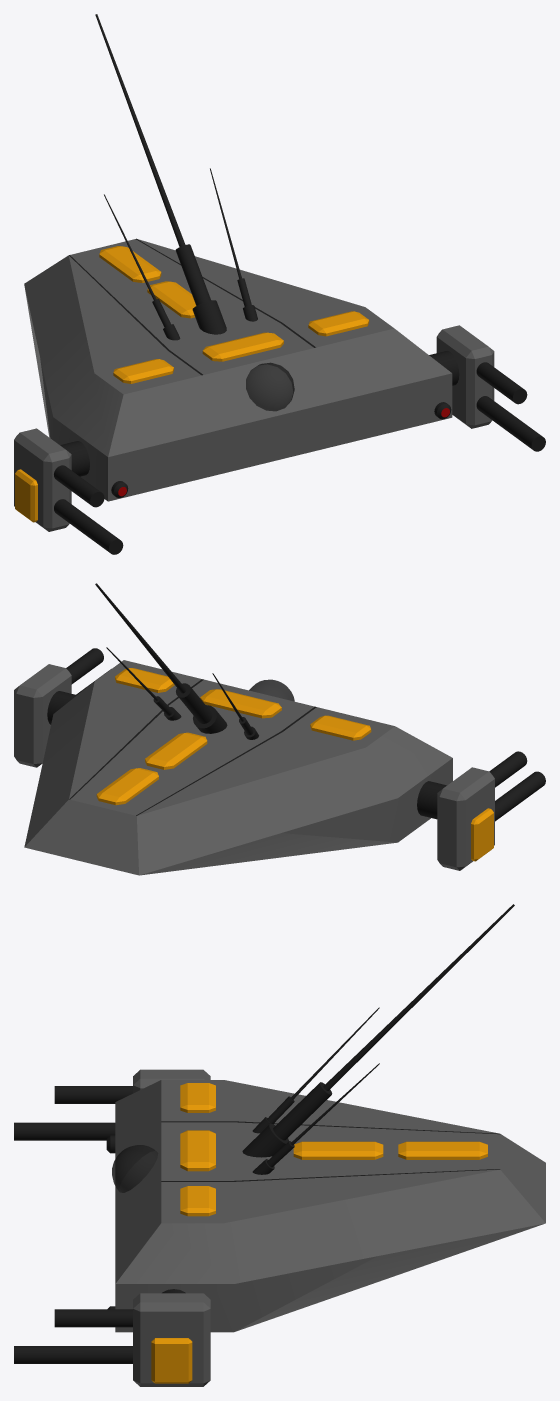
File: b_drone_agressif.fbx
The picture shows the model from 3 angles, top to bottom: view 1: azimuth 30°, elevation 25°; view 2: azimuth 150°, elevation 25°; view 3: azimuth 270°, elevation 25°; orthographic projection. The views are drawn at different scales.
Visible parts, largest first — view 1: pCube1, pCube3, pCube2, pCylinder1, pSphere1, pCube4, pCylinder6, pCylinder8, pCube9, pCylinder4, pCube10, pCube5 (+6 smaller); view 2: pCube1, pCube3, pCube2, pCylinder1, pCube4, pCube10, pCube9, pCylinder4, pCylinder8, pCube6, pCube7, pCube5 (+5 smaller); view 3: pCube1, pCube2, pCylinder1, pCylinder6, pCube8, pCylinder8, pCube10, pCube9, pSphere1, pCylinder5, pCube4, pCylinder7 (+5 smaller).
Part boxes in pixels (x1,y1,x2,y2): pCube1: (24,238,452,501); pCube3: (14,428,71,531); pCube2: (436,325,494,428); pCylinder1: (95,14,226,334); pSphere1: (246,362,294,411); pCube4: (202,332,283,361); pCylinder6: (476,396,545,451); pCylinder8: (54,499,123,554); pCube9: (99,246,161,282); pCylinder4: (60,351,459,476); pCube10: (147,281,196,318); pCube5: (308,311,369,336); pCube1: (24,660,452,875); pCube3: (437,767,494,870); pCube2: (14,664,71,767); pCylinder1: (95,583,227,733); pCube4: (200,689,281,718); pCube10: (145,732,207,769); pCube9: (96,768,158,805); pCylinder4: (47,691,446,819); pCylinder8: (495,771,545,821); pCube6: (310,715,371,740); pCube7: (471,808,493,861); pCube5: (115,668,174,692); pCube1: (115,1080,545,1332); pCube2: (133,1293,210,1386); pCylinder1: (242,904,514,1157); pCylinder6: (14,1346,132,1363); pCube8: (151,1338,192,1383); pCylinder8: (14,1122,115,1140); pCube10: (293,1141,383,1159); pCube9: (398,1141,487,1159); pSphere1: (112,1145,157,1192); pCylinder5: (54,1309,132,1327); pCube4: (180,1130,215,1171); pCylinder7: (54,1086,132,1103).
Bounding box in the file's own units: 0.0875 × 0.0612 × 0.0805.
